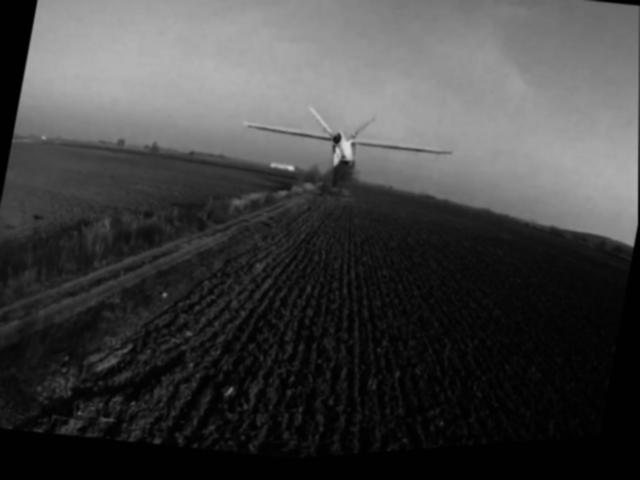hedef: (234, 87, 462, 208)
